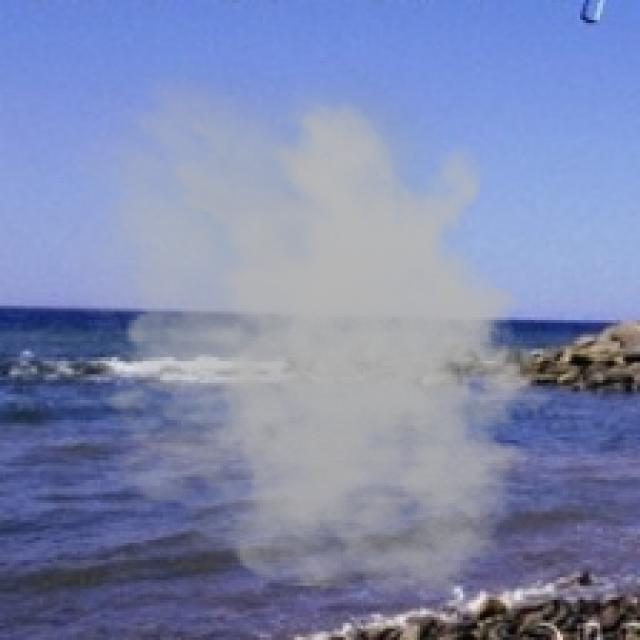smoke: (43, 51, 568, 600)
